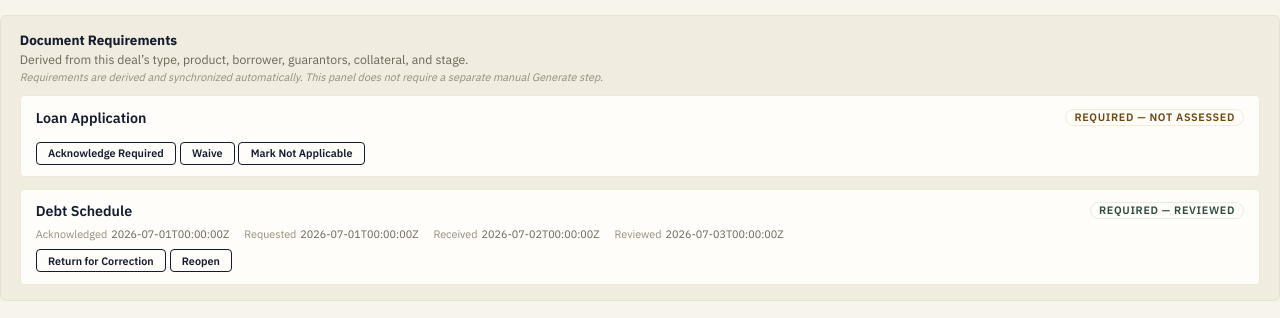
Test: DocumentRequirementWorkspace › refresh preserves all states: acknowledging one row reloads and leaves an unrelated row exactly as it was
The image size is (1280, 318).
Check: the text "Loan Application" is shown, box [36,108,146,127]
Check: the text "Required — Reviewed" is shown, box [1090,202,1244,219]
Step 1. Click the button "Acknowledge Required" → (106, 153), box [36,142,176,165]
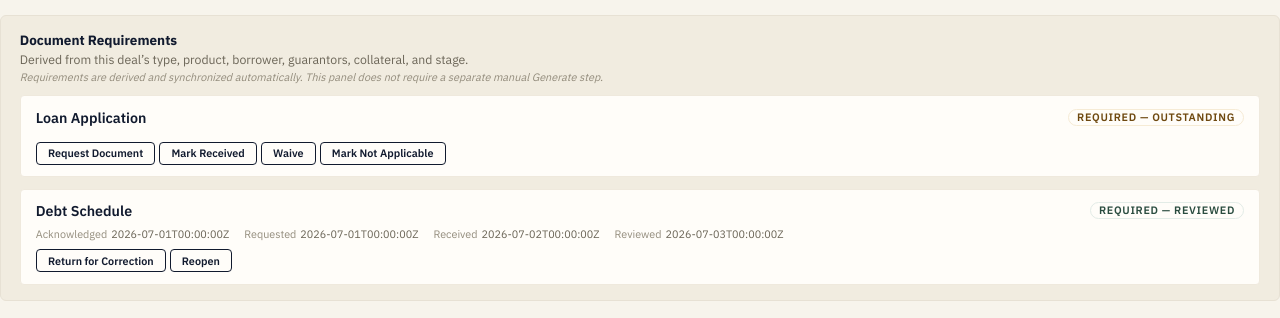
Check: the text "Required — Reviewed" is shown, box [1090,202,1244,219]
Check: the text "Required — Outstanding" is shown, box [1068,108,1244,126]
